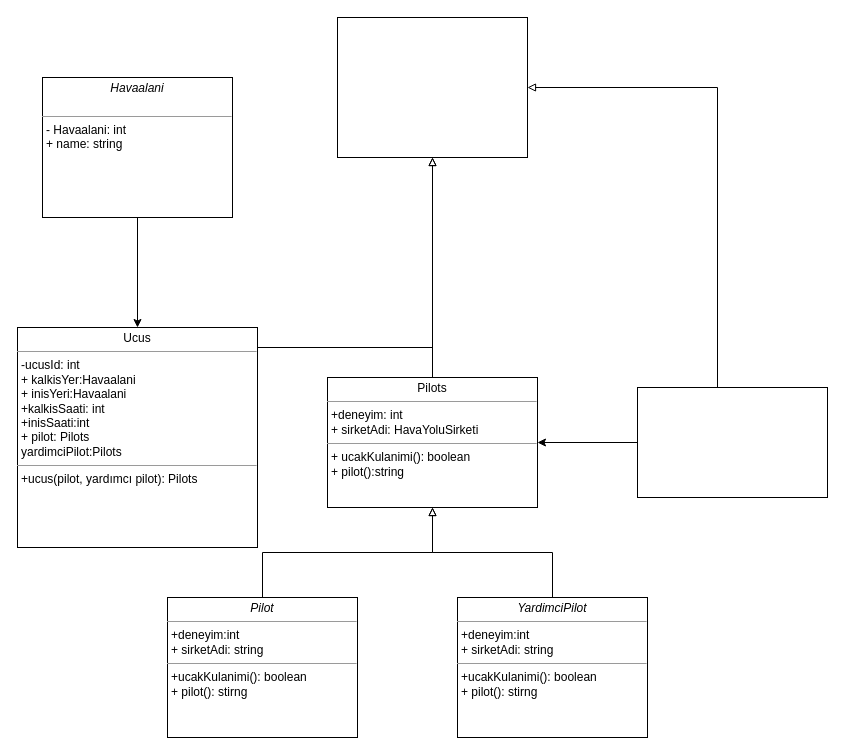
This 845x755 diagram has some shape labels left out. The shapes that lost their labels are listed below. From the top down, each one's centre as x and y in pixels, then its label:
At (x=432, y=87): "HavaYoluSirketi - havaId: int + ucakTipi: Ucak + pilot:Pilots + ucus(): string".
At (x=732, y=442): "Ucak +tip: string +pilotSayisi: int +calisma():boolean".
